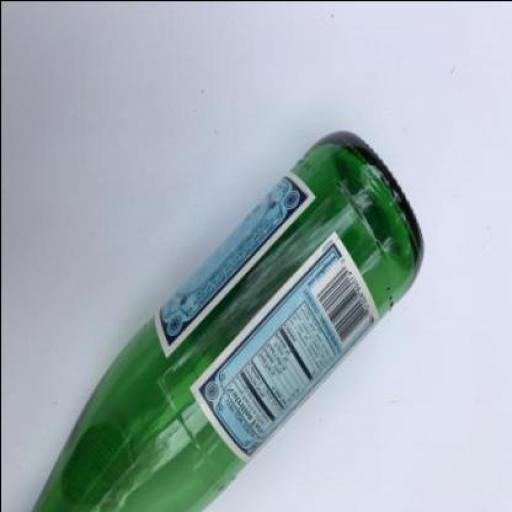glass: (30, 129, 424, 511)
